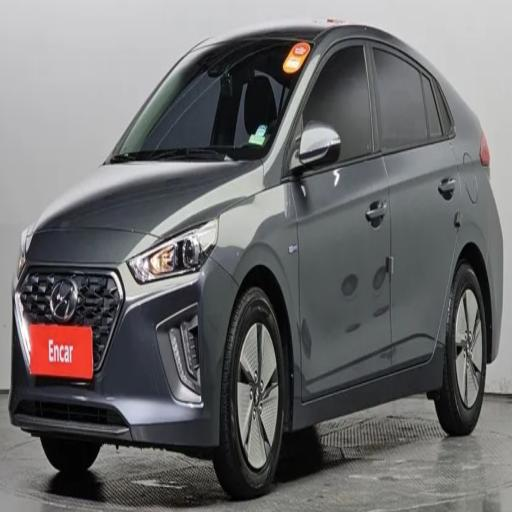normal: (22, 1, 508, 498)
